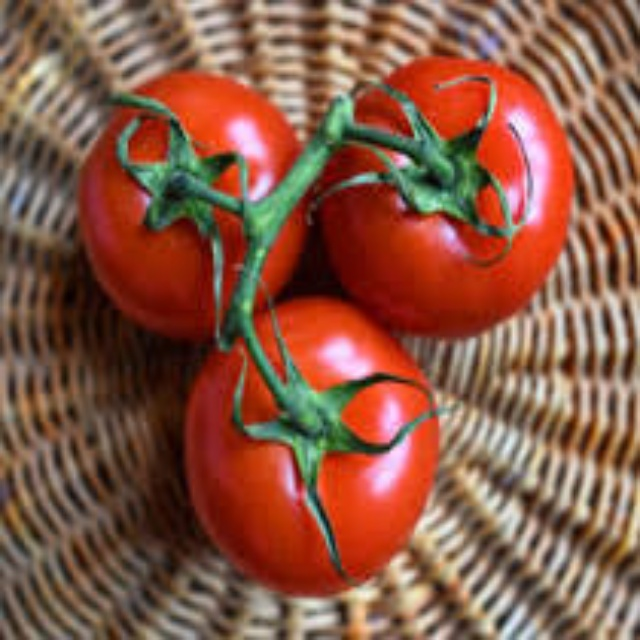tomato: (181, 307, 471, 599), (332, 57, 578, 336), (74, 71, 325, 330)
